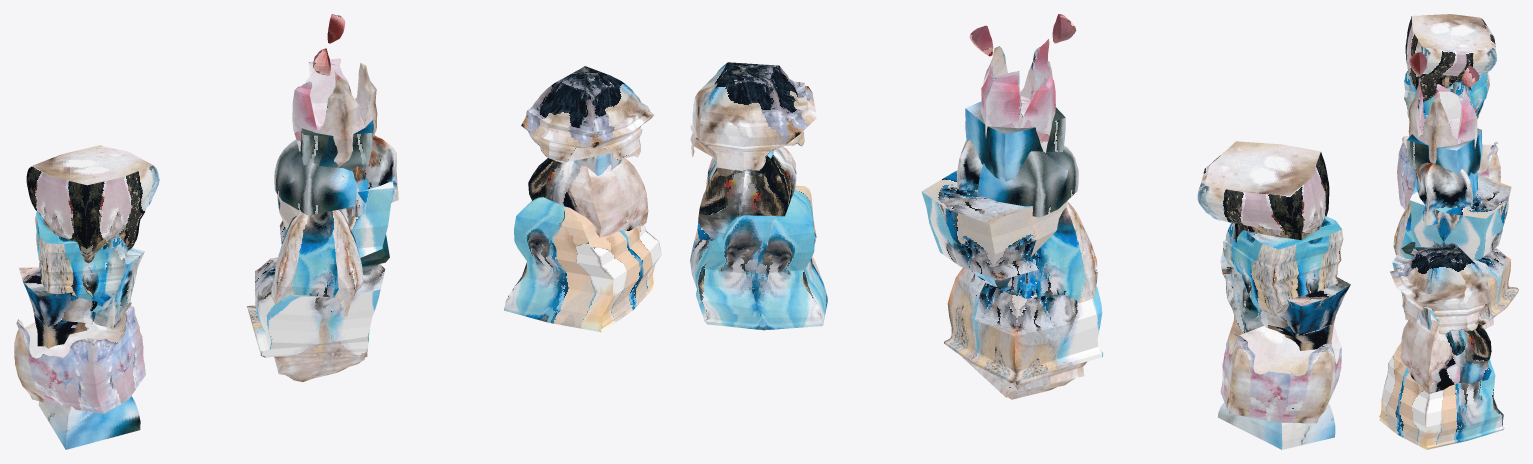
3 views of the same model, side by side, from view 1: azimuth 30°, elevation 25°; view 2: azimuth 150°, elevation 25°; view 3: azimuth 270°, elevation 25° (orthographic). The views are drawn at different scales.
Parts seen in each view (by area): view 1: SPLICE_2 (×8), SPLICE_1 (×5), SPLICE_3 (×3), metamorphosis_v2001; view 2: SPLICE_2 (×8), SPLICE_1 (×5), SPLICE_3 (×3), metamorphosis_v2001; view 3: SPLICE_2 (×7), SPLICE_1 (×6), SPLICE_3 (×2), metamorphosis_v2001.
Boxes of the visible parts, <box> form: SPLICE_2 (×8): <box>14,58,648,449</box>; SPLICE_1 (×5): <box>93,66,661,332</box>; SPLICE_3 (×3): <box>19,145,385,382</box>; metamorphosis_v2001: <box>313,14,345,75</box>; SPLICE_2 (×8): <box>697,39,1343,449</box>; SPLICE_1 (×5): <box>690,62,1263,333</box>; SPLICE_3 (×3): <box>944,141,1350,399</box>; metamorphosis_v2001: <box>969,14,1076,56</box>; SPLICE_2 (×7): <box>1397,71,1511,393</box>; SPLICE_1 (×6): <box>1379,172,1504,449</box>; SPLICE_3 (×2): <box>1392,14,1518,329</box>; metamorphosis_v2001: <box>1409,52,1479,87</box>.
Bounding box in the file's own units: 9.62 × 5.13 × 2.28.
Materials: 19 (19 with a texture image).
